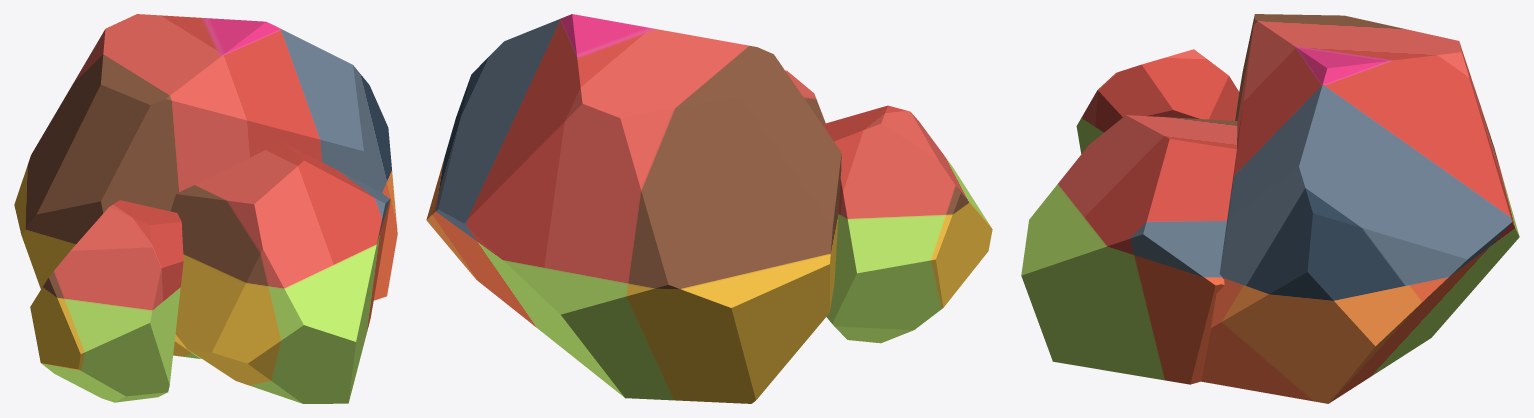
File: rock_23.fbx
3 views of the same model, side by side, from view 1: azimuth 30°, elevation 25°; view 2: azimuth 150°, elevation 25°; view 3: azimuth 270°, elevation 25° (orthographic). The views are drawn at different scales.
Parts seen in each view (by area): view 1: rock_23; view 2: rock_23; view 3: rock_23.
Boxes of the visible parts, x1=… form: rock_23: x1=14, y1=14, x2=397, y2=403; rock_23: x1=426, y1=14, x2=992, y2=403; rock_23: x1=1021, y1=14, x2=1519, y2=403.
Bounding box in the file's own units: 179 × 126 × 175.
